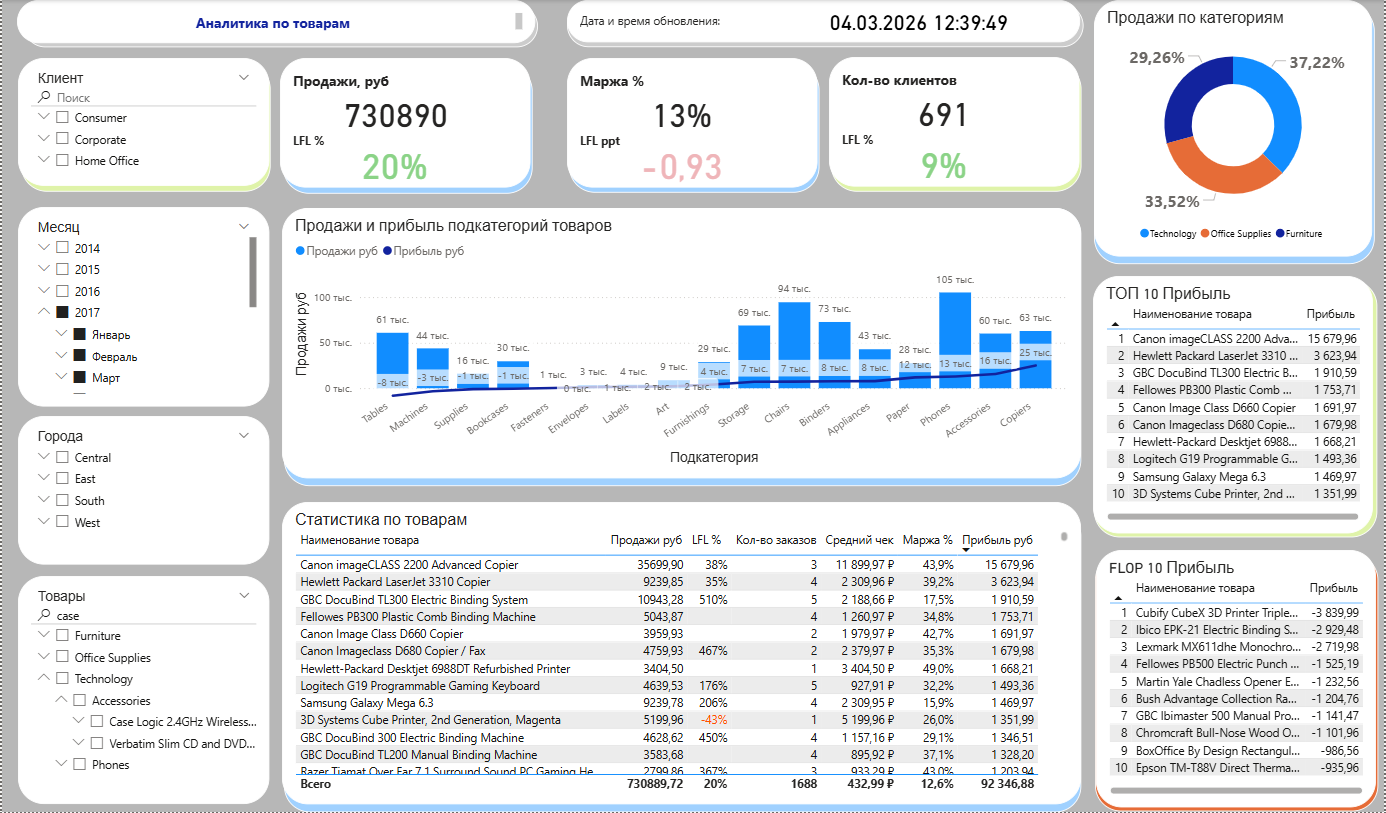

What the dashboard file says about the page in this screenshot:
{"tool":"powerbi","page":{"name":"Аналитика по товарам","canvas":[1600,940],"ordinal":2},"visuals":[{"type":"textbox","box":[22,72.9,289.4,149.3],"z":0},{"type":"textbox","box":[1264.3,324.1,328.1,298],"z":1000},{"type":"textbox","box":[326.7,240.5,923.5,321.5],"z":2000},{"type":"textbox","box":[326.7,590.4,923.5,349.8],"z":3000},{"type":"textbox","box":[1264.2,5.8,325.3,299.8],"z":4000},{"type":"textbox","box":[654.1,4.6,598.5,49.8],"z":5000},{"type":"lineStackedColumnComboChart","title":"Продажи и прибыль подкатегорий товаров","fields":{"Category":["Товар.Подкатегория"],"Y":["Меры.Продажи руб"],"Y2":["Меры.Прибыль руб"]},"box":[324.1,240.5,924.8,312.5],"z":6000},{"type":"slicer","fields":{"Values":["Календарь.Год","Календарь.Месяц текст","Календарь.Дата"]},"box":[18.8,240,290.6,230.6],"z":7000},{"type":"slicer","fields":{"Values":["Регионы.Регион","Регионы.Штат","Регионы.Город"]},"box":[18.8,481.2,290.6,171.8],"z":8000},{"type":"textbox","box":[959.8,72.7,290,148.7],"z":9000},{"type":"textbox","box":[956.9,65.4,290,149.8],"z":10000},{"type":"card","fields":{"Values":["Меры.Клиенты"]},"box":[976.4,105.3,228.6,47.7],"z":11000},{"type":"card","fields":{"Values":["Меры.LFL % (клиенты)"]},"box":[1005.6,159.3,168,56.4],"z":12000},{"type":"textbox","box":[654.1,0,593.9,48.6],"z":13000},{"type":"textbox","box":[25.5,5.3,594.7,48.9],"z":14000},{"type":"textbox","box":[17,0,600,50],"z":15000},{"type":"card","fields":{"Values":["Min(Время обновения.Дата последнего обновления)"]},"box":[889,2,344.4,45.5],"z":16000},{"type":"tableEx","title":"Статистика по товарам","fields":{"Values":["Товар.Наименование товара","Меры.Продажи руб","Меры.LFL % (продажи)","Меры.Кол-во заказов","Меры.Средний чек","Меры.Маржа %","Меры.Прибыль руб"]},"box":[324.1,581.4,924.8,349.8],"z":17000},{"type":"donutChart","title":"Продажи  по категориям","fields":{"Y":["Меры.Продажи руб"],"Category":["Товар.Категория","Товар.Подкатегория"]},"box":[1264.2,0,321.9,297.5],"z":18000},{"type":"tableEx","title":"ТОП 10 Прибыль","fields":{"Values":["Меры.Ранг по прибыли TOP","Товар.Наименование товара","Меры.Прибыль руб"]},"box":[1262.8,319.6,323.6,298],"z":19000},{"type":"slicer","fields":{"Values":["Товар.Категория","Товар.Подкатегория","Товар.Наименование товара","Товар.Товар ID"]},"box":[18.2,666.8,291.1,263.9],"z":20000},{"type":"slicer","fields":{"Values":["Клиенты.Клиент Вид","Клиенты.Клиент ФИО","Клиенты.Клиент ID"]},"box":[18.5,67.1,290.6,148.2],"z":21000},{"type":"textbox","box":[656.5,73.9,290,148.7],"z":22000},{"type":"textbox","box":[653.6,66.6,290,149.8],"z":23000},{"type":"card","fields":{"Values":["Меры.Маржа %"]},"box":[673,106.5,228.6,47.7],"z":24000},{"type":"card","fields":{"Values":["Меры.Маржа PPT"]},"box":[702.3,160.5,168,56.4],"z":25000},{"type":"textbox","box":[325.1,75.3,289,149],"z":26000},{"type":"textbox","box":[321.9,67.2,290,149.8],"z":27000},{"type":"card","fields":{"Values":["Меры.Продажи руб"]},"box":[341.4,107.1,228.6,47.7],"z":28000},{"type":"card","fields":{"Values":["Меры.LFL %"]},"box":[370.6,161.1,168,56.4],"z":29000},{"type":"textbox","box":[1265.9,641.4,328.1,298],"z":29001},{"type":"tableEx","title":"FLOP 10 Прибыль","fields":{"Values":["Меры.Ранг по прибыли FLOP","Товар.Наименование товара","Меры.Прибыль руб"]},"box":[1266.8,636.9,323.6,298],"z":29002}]}

Visuals, with their boxes in screenshot pixels (x1, y1, x2, y2), scaled from the page's 1600x940 canvas onto the 1386x813 screenshot:
textbox: detection(19, 63, 270, 192)
textbox: detection(1095, 280, 1379, 538)
textbox: detection(283, 208, 1083, 486)
textbox: detection(283, 511, 1083, 812)
textbox: detection(1095, 5, 1377, 264)
textbox: detection(567, 4, 1085, 47)
"Продажи и прибыль подкатегорий товаров" lineStackedColumnComboChart: detection(281, 208, 1082, 478)
slicer - Календарь.Год x Календарь.Месяц текст: detection(16, 208, 268, 407)
slicer - Регионы.Регион x Регионы.Штат: detection(16, 416, 268, 565)
textbox: detection(831, 63, 1083, 191)
textbox: detection(829, 57, 1080, 186)
card - Меры.Клиенты: detection(846, 91, 1044, 132)
card - Меры.LFL % (клиенты): detection(871, 138, 1017, 187)
textbox: detection(567, 0, 1081, 42)
textbox: detection(22, 5, 537, 47)
textbox: detection(15, 0, 534, 43)
card - Min(Время обновения.Дата последнего обновления): detection(770, 2, 1068, 41)
"Статистика по товарам" tableEx: detection(281, 503, 1082, 805)
"Продажи  по категориям" donutChart: detection(1095, 0, 1374, 257)
"ТОП 10 Прибыль" tableEx: detection(1094, 276, 1374, 534)
slicer - Товар.Категория x Товар.Подкатегория: detection(16, 577, 268, 805)
slicer - Клиенты.Клиент Вид x Клиенты.Клиент ФИО: detection(16, 58, 268, 186)
textbox: detection(569, 64, 820, 193)
textbox: detection(566, 58, 817, 187)
card - Меры.Маржа %: detection(583, 92, 781, 133)
card - Меры.Маржа PPT: detection(608, 139, 754, 188)
textbox: detection(282, 65, 532, 194)
textbox: detection(279, 58, 530, 188)
card - Меры.Продажи руб: detection(296, 93, 494, 134)
card - Меры.LFL %: detection(321, 139, 467, 188)
textbox: detection(1097, 555, 1381, 812)
"FLOP 10 Прибыль" tableEx: detection(1097, 551, 1378, 809)
